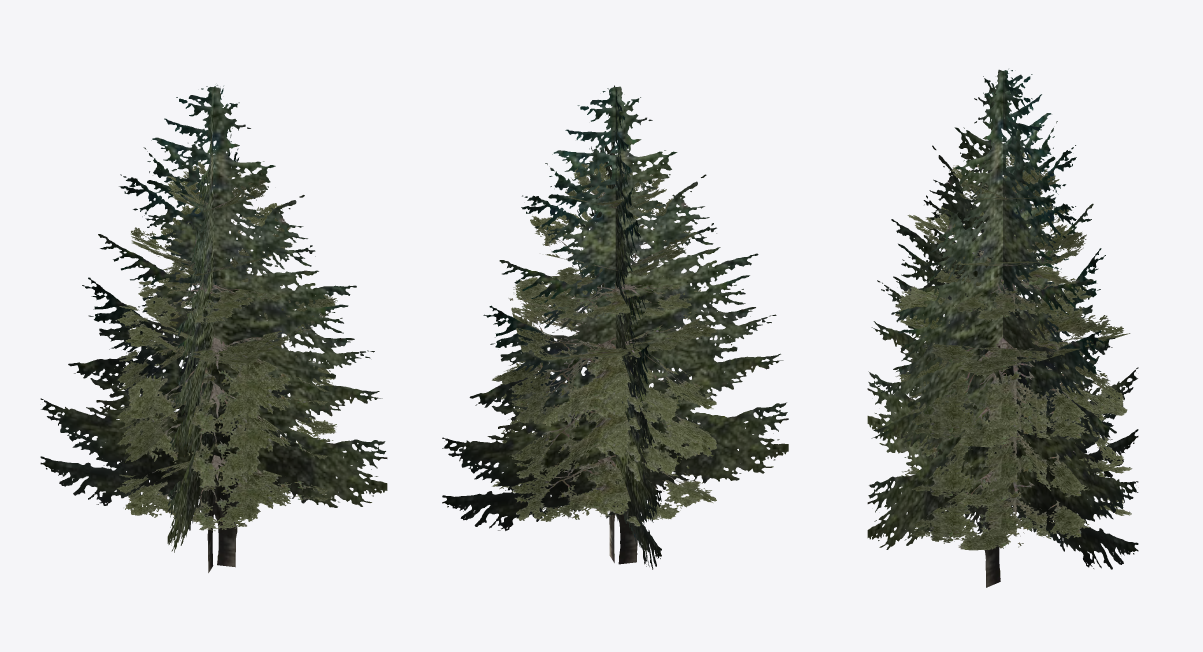
Rendered from tree-night2.glb.
3 renders of one model, left to right at view 1: azimuth 30°, elevation 25°; view 2: azimuth 150°, elevation 25°; view 3: azimuth 270°, elevation 25°, orthographic. The views are drawn at different scales.
Visible parts, largest first — view 1: Plane.004; view 2: Plane.004; view 3: Plane.004.
Boxes of the visible parts, x1,y1,x2,y2 form: Plane.004: (40, 85, 387, 572); Plane.004: (442, 85, 788, 569); Plane.004: (867, 69, 1138, 587).
Size of the model in its own units: 0.5311 by 0.8033 by 0.5311.
Materials: 1 (1 with a texture image).
